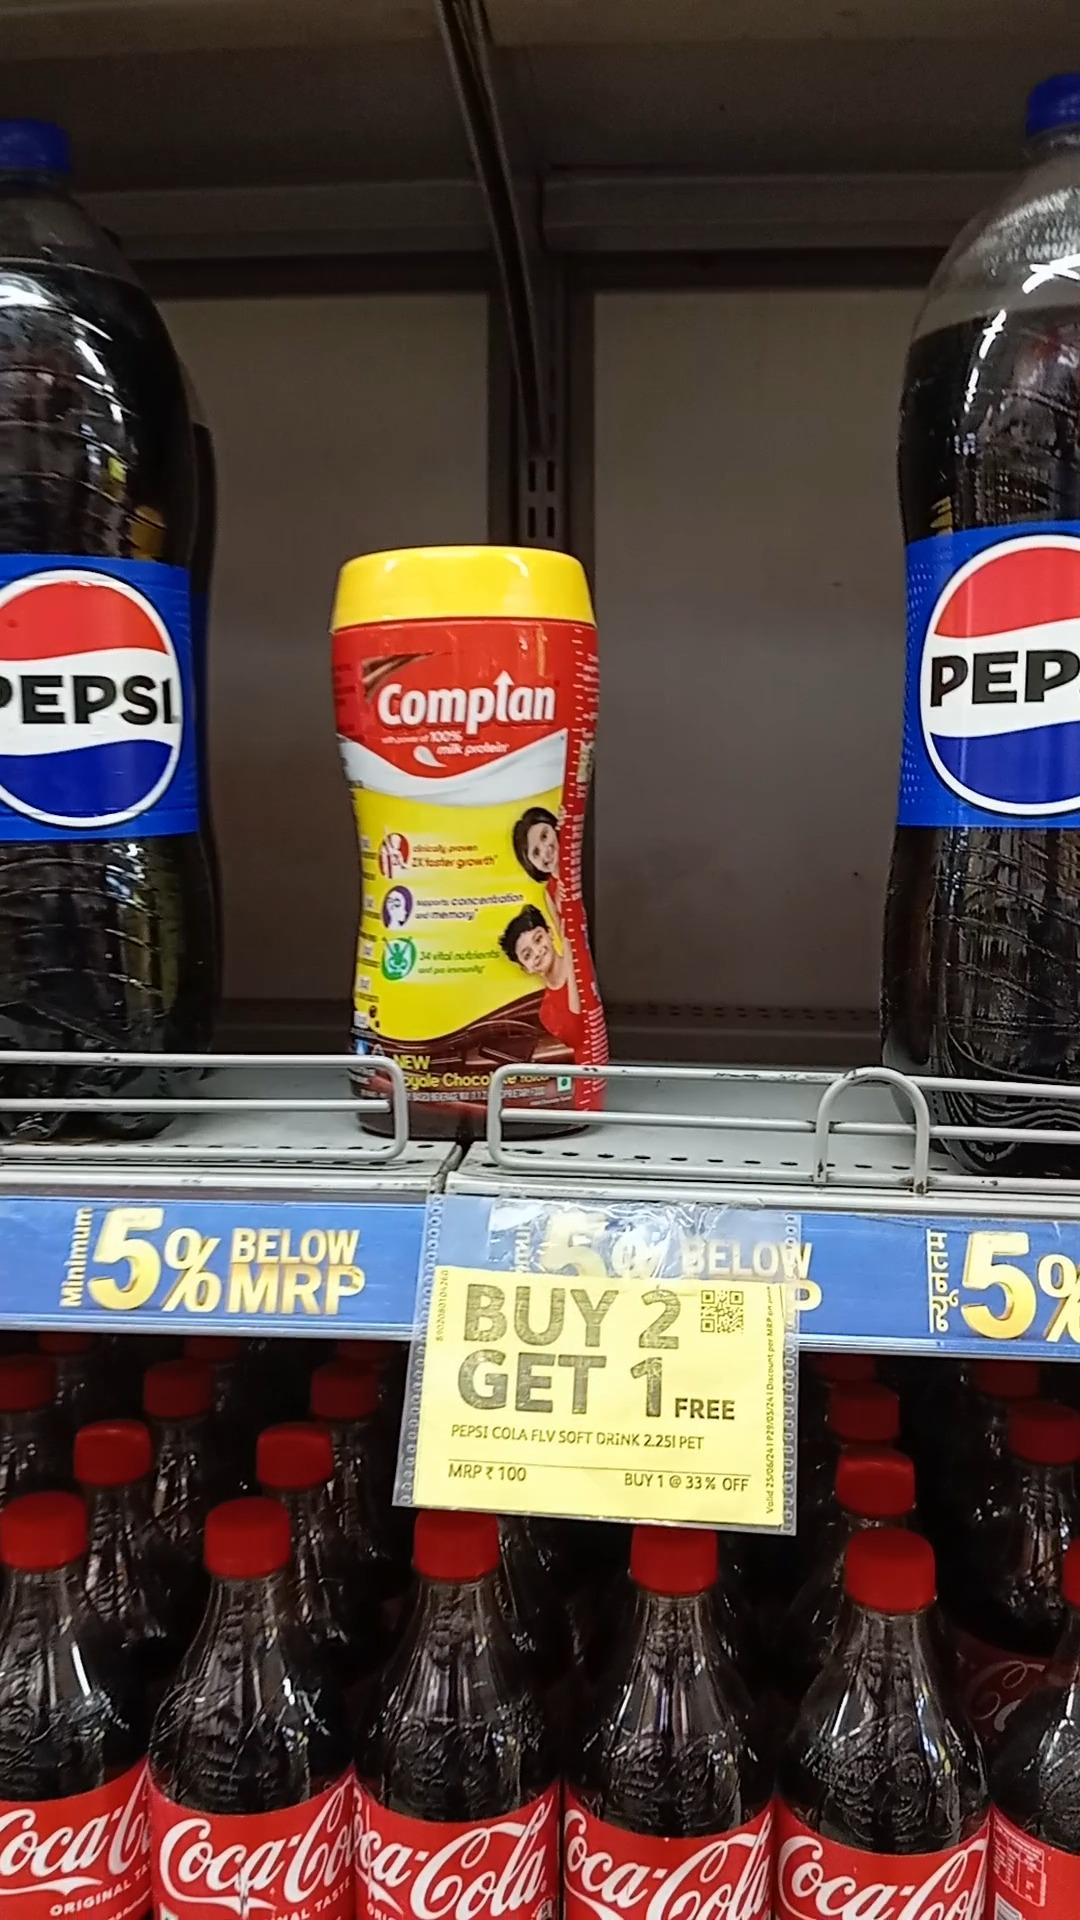COMPLAN_CHOCOLATE_500_GMS_JAR: (327, 541, 613, 1143)
